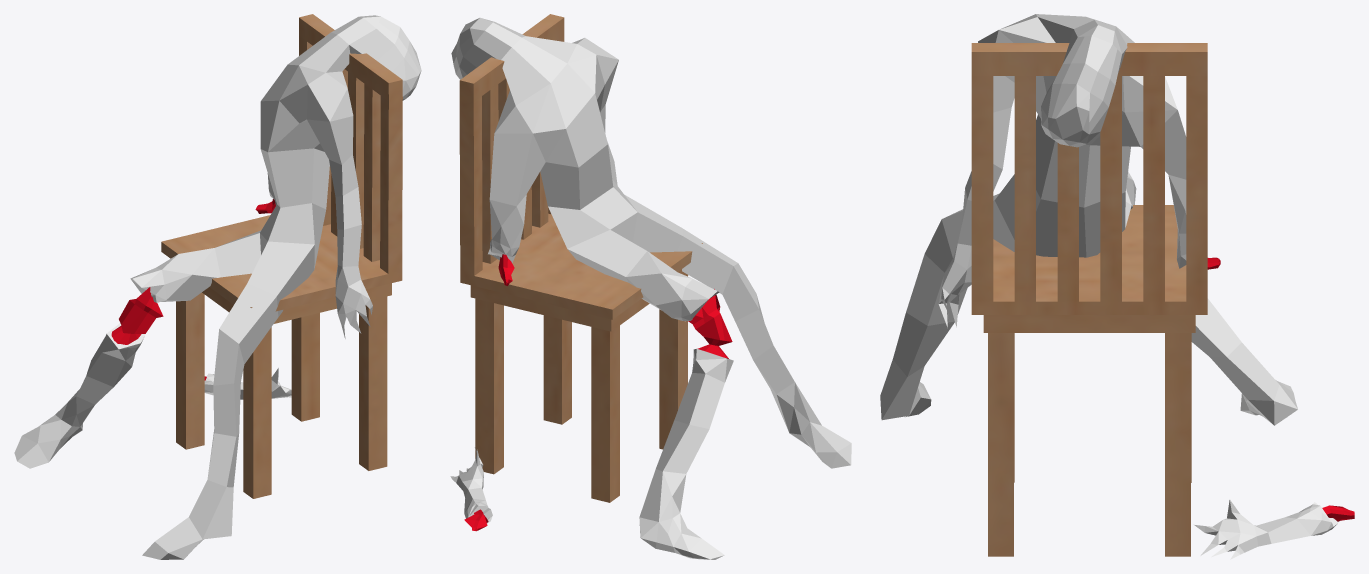
Rendered from chair_with_person.fbx.
3 renders of one model, left to right at view 1: azimuth 30°, elevation 25°; view 2: azimuth 150°, elevation 25°; view 3: azimuth 270°, elevation 25°, orthographic. The views are drawn at different scales.
Parts seen in each view (by area): view 1: Human_BaseMesh.005, Cube.000, Human_BaseMesh.003, Cube, Human_BaseMesh.004; view 2: Human_BaseMesh.005, Cube.000, Human_BaseMesh.003, Cube, Human_BaseMesh.004; view 3: Cube.000, Human_BaseMesh.005, Human_BaseMesh.003, Human_BaseMesh.004.
Part boxes in pixels (<box>): Human_BaseMesh.005: <box>130,15,421,559</box>; Cube.000: <box>161,14,402,498</box>; Human_BaseMesh.003: <box>14,323,145,468</box>; Cube: <box>111,287,163,344</box>; Human_BaseMesh.004: <box>204,368,291,399</box>; Human_BaseMesh.005: <box>451,17,851,468</box>; Cube.000: <box>459,14,702,502</box>; Human_BaseMesh.003: <box>639,348,733,559</box>; Cube: <box>688,289,732,358</box>; Human_BaseMesh.004: <box>450,448,492,523</box>; Cube.000: <box>971,43,1207,556</box>; Human_BaseMesh.005: <box>880,14,1186,420</box>; Human_BaseMesh.003: <box>1191,298,1297,425</box>; Human_BaseMesh.004: <box>1194,499,1338,559</box>.
Size of the model in its own units: 1.13 by 1.38 by 1.06.
